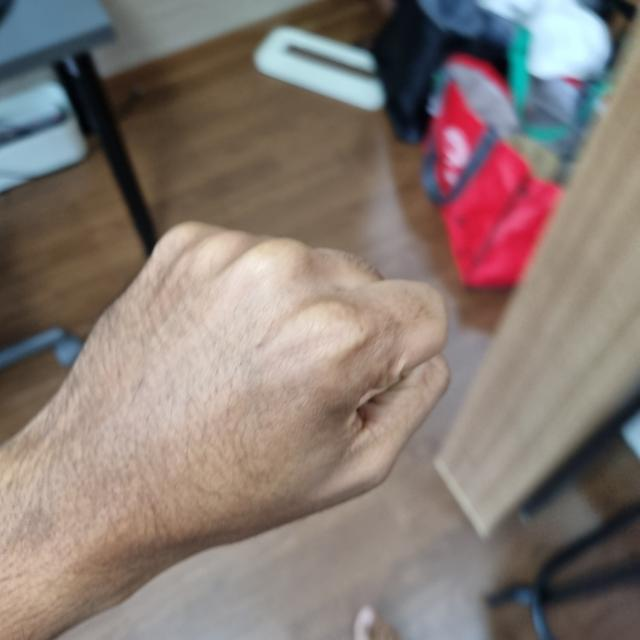Rock: (32, 221, 450, 560)
